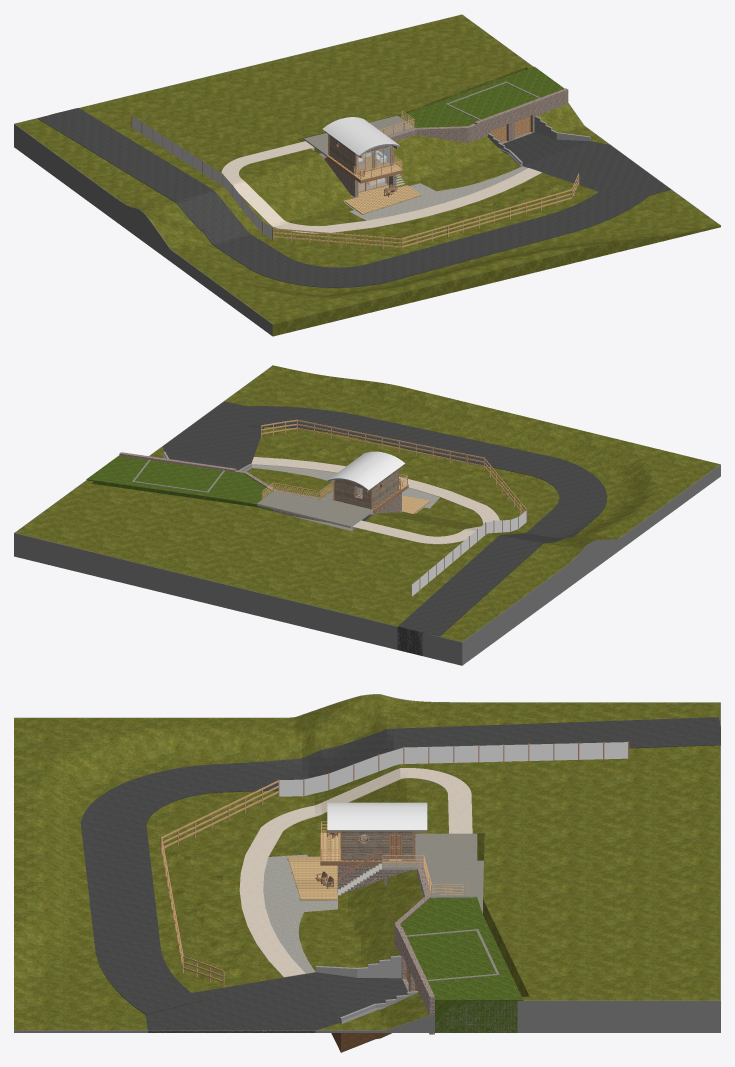
File: house1.glb
3 renders of one model, top to bottom at view 1: azimuth 30°, elevation 25°; view 2: azimuth 150°, elevation 25°; view 3: azimuth 270°, elevation 25°, orthographic. The views are drawn at different scales.
Parts seen in each view (by area): view 1: Object_14, Object_50, Object_53, Object_15, Object_16, Object_22, Object_51, Object_55, Object_17, Object_6, Object_52, Object_31 (+3 smaller); view 2: Object_14, Object_50, Object_53, Object_16, Object_15, Object_31, Object_51, Object_6, Object_55, Object_33, Object_22, Object_17 (+1 smaller); view 3: Object_14, Object_50, Object_16, Object_53, Object_15, Object_55, Object_31, Object_17, Object_6, Object_22, Object_52, Object_51 (+5 smaller).
Part boxes in pixels (x1,y1,x2,y2): Object_14: (15,15,720,336); Object_50: (37,108,670,287); Object_53: (14,14,720,335); Object_15: (221,141,542,233); Object_16: (399,66,564,127); Object_22: (324,88,568,197); Object_51: (273,173,579,250); Object_55: (132,116,386,239); Object_17: (343,166,527,220); Object_6: (323,117,399,155); Object_52: (344,165,421,214); Object_31: (304,81,543,197); Object_14: (15,365,719,641); Object_50: (162,401,607,655); Object_53: (14,365,720,665); Object_16: (86,455,273,511); Object_15: (251,457,499,544); Object_31: (132,454,402,530); Object_51: (261,419,526,514); Object_6: (328,451,404,489); Object_55: (357,493,526,596); Object_33: (335,469,398,508); Object_22: (119,452,401,522); Object_17: (251,464,439,513); Object_14: (14,694,720,1030); Object_50: (80,717,720,1032); Object_16: (400,897,523,1032); Object_53: (14,694,720,1032); Object_15: (239,768,472,977); Object_55: (279,742,627,835); Object_31: (341,833,499,1021); Object_17: (263,854,337,973); Object_6: (327,802,427,830); Object_22: (337,838,434,1034); Object_52: (288,832,340,900); Object_51: (160,780,278,987).
Size of the model in its own units: 54000 by 8469 by 54000.
52 materials, 30 textured.
